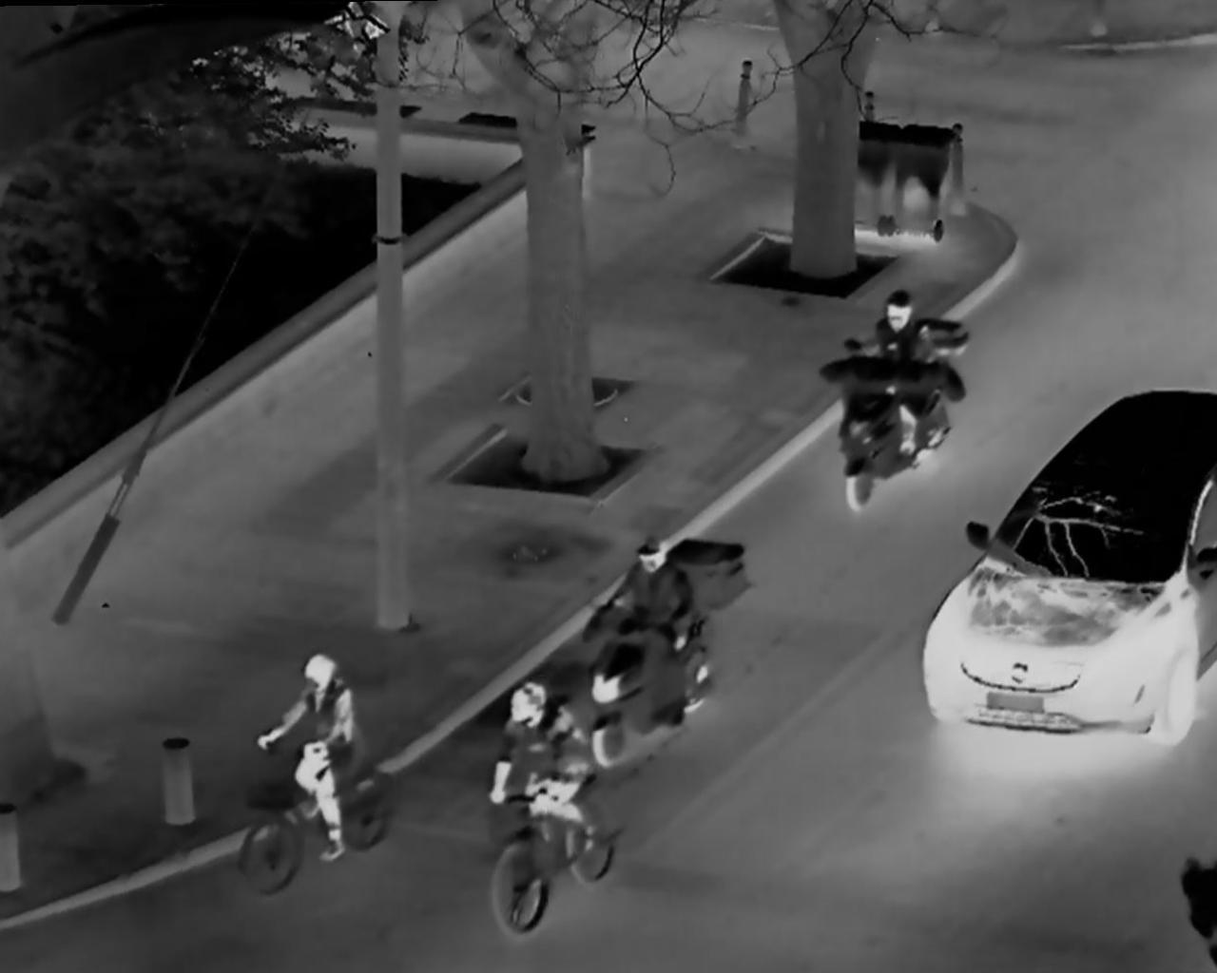person: (822, 267, 966, 512), (575, 519, 727, 744), (479, 677, 610, 917), (252, 648, 388, 877)
